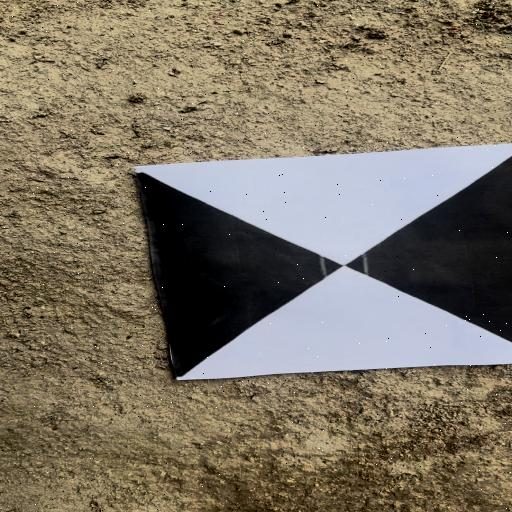target: (137, 143, 510, 377)
